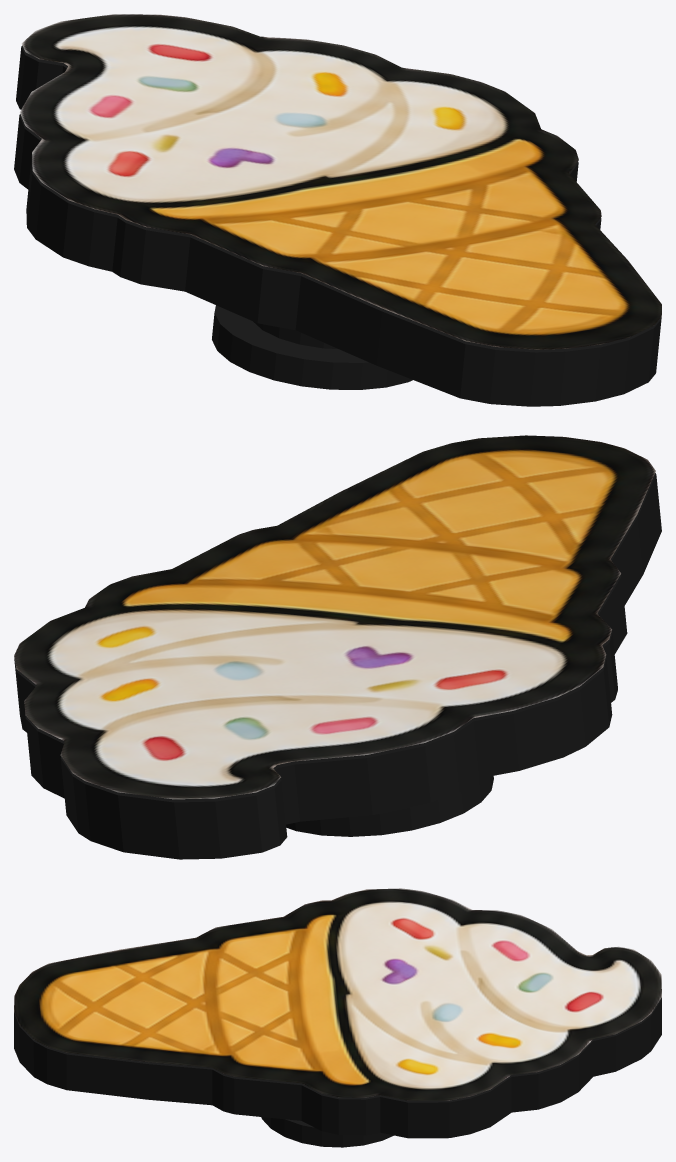
File: food-ice-cream.glb
3 renders of one model, top to bottom at view 1: azimuth 30°, elevation 25°; view 2: azimuth 150°, elevation 25°; view 3: azimuth 270°, elevation 25°, orthographic. The views are drawn at different scales.
Parts seen in each view (by area): view 1: FOOD_Ice_Cream_MODEL; view 2: FOOD_Ice_Cream_MODEL; view 3: FOOD_Ice_Cream_MODEL.
Part boxes in pixels (x1,y1,x2,y2): FOOD_Ice_Cream_MODEL: (14,14,661,406); FOOD_Ice_Cream_MODEL: (14,435,661,859); FOOD_Ice_Cream_MODEL: (14,888,661,1147).
Size of the model in its own units: 0.2529 by 0.0963 by 0.3964.
3 materials, 1 textured.
